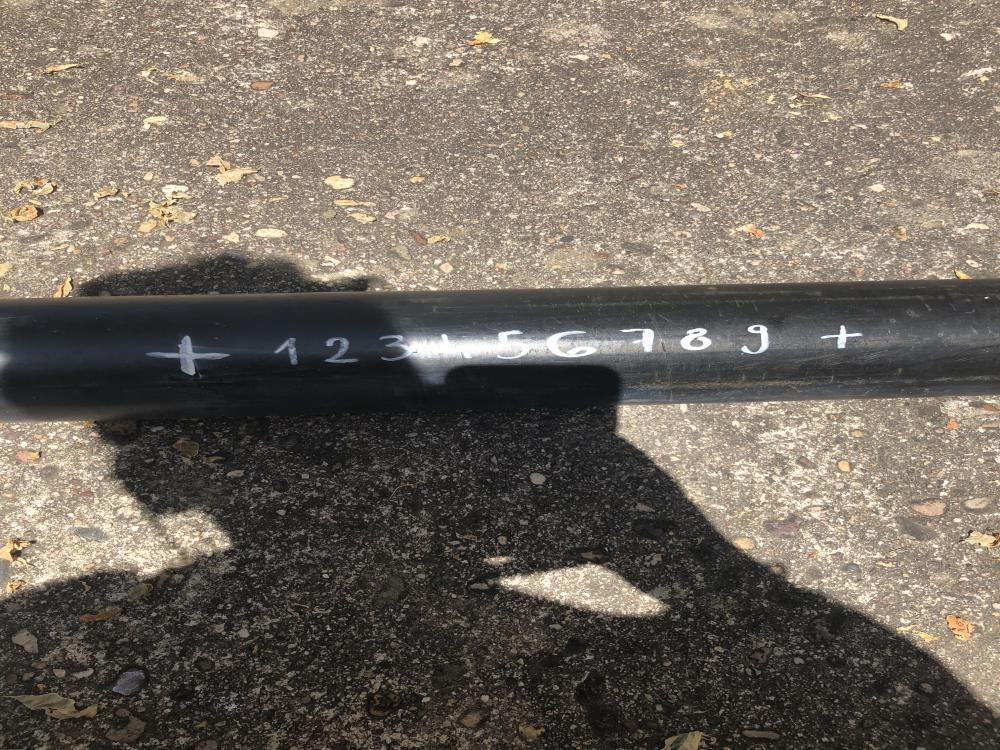+: (148, 335, 230, 376), (822, 324, 862, 348)
1: (274, 338, 302, 366)
2: (326, 337, 359, 364)
3: (378, 335, 411, 362)
4: (442, 334, 474, 360)
5: (496, 330, 530, 360)
6: (547, 330, 596, 358)
7: (618, 328, 656, 354)
8: (681, 327, 712, 351)
9: (740, 325, 770, 354)
